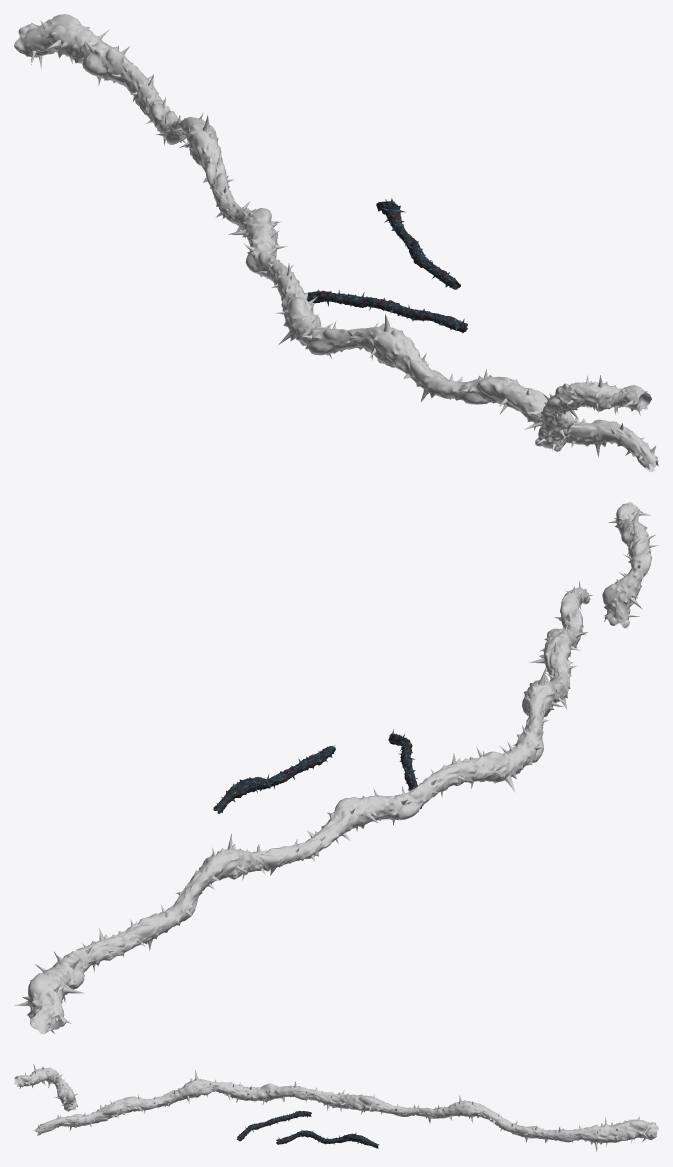
File: backup.fbx
The picture shows the model from 3 angles, top to bottom: view 1: azimuth 30°, elevation 25°; view 2: azimuth 150°, elevation 25°; view 3: azimuth 270°, elevation 25°; orthographic projection. The views are drawn at different scales.
Visible parts, largest first — view 1: LODGroup_1_MainMesh_1_SubMesh_2, LODGroup_1_MainMesh_1_SubMesh_1; view 2: LODGroup_1_MainMesh_1_SubMesh_2, LODGroup_1_MainMesh_1_SubMesh_1; view 3: LODGroup_1_MainMesh_1_SubMesh_2, LODGroup_1_MainMesh_1_SubMesh_1.
Boxes of the visible parts, left/top/right/bottom form: LODGroup_1_MainMesh_1_SubMesh_2: left=14, top=14, right=658, bottom=472; LODGroup_1_MainMesh_1_SubMesh_1: left=304, top=198, right=467, bottom=333; LODGroup_1_MainMesh_1_SubMesh_2: left=14, top=501, right=658, bottom=1034; LODGroup_1_MainMesh_1_SubMesh_1: left=213, top=729, right=423, bottom=813; LODGroup_1_MainMesh_1_SubMesh_2: left=14, top=1064, right=658, bottom=1151; LODGroup_1_MainMesh_1_SubMesh_1: left=237, top=1110, right=379, bottom=1148.
Bounding box in the file's own units: 1348 × 799 × 6607.
